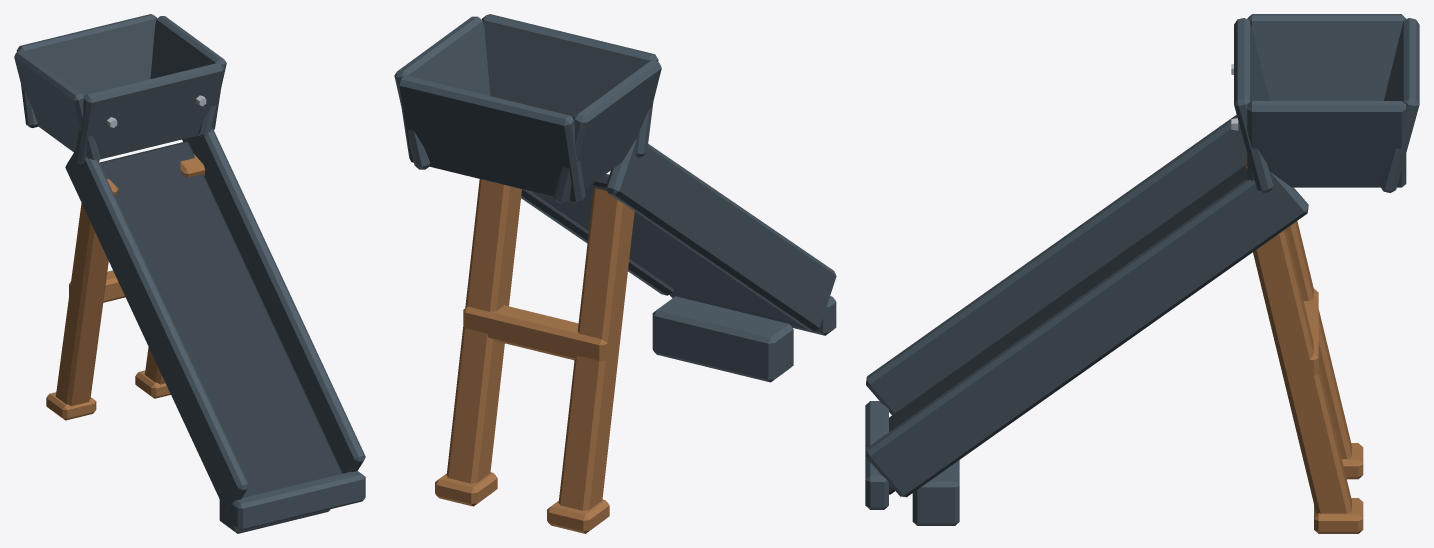
File: Station_LoadingChute.fbx
3 views of the same model, side by side, from view 1: azimuth 30°, elevation 25°; view 2: azimuth 150°, elevation 25°; view 3: azimuth 270°, elevation 25° (orthographic). The views are drawn at different scales.
Parts seen in each view (by area): view 1: Frame, FrameDark, Wood; view 2: Frame, Wood, FrameDark; view 3: Frame, Wood, FrameDark.
Boxes of the visible parts, x1=… form: Frame: x1=14, y1=14, x2=365, y2=533; FrameDark: x1=99, y1=141, x2=342, y2=497; Wood: x1=46, y1=154, x2=205, y2=420; Frame: x1=394, y1=14, x2=836, y2=382; Wood: x1=435, y1=179, x2=634, y2=533; FrameDark: x1=532, y1=174, x2=797, y2=323; Frame: x1=865, y1=14, x2=1419, y2=525; Wood: x1=1245, y1=156, x2=1363, y2=533; FrameDark: x1=889, y1=165, x2=1247, y2=494.
Bounding box in the file's own units: 1.89 × 4.15 × 4.7.
